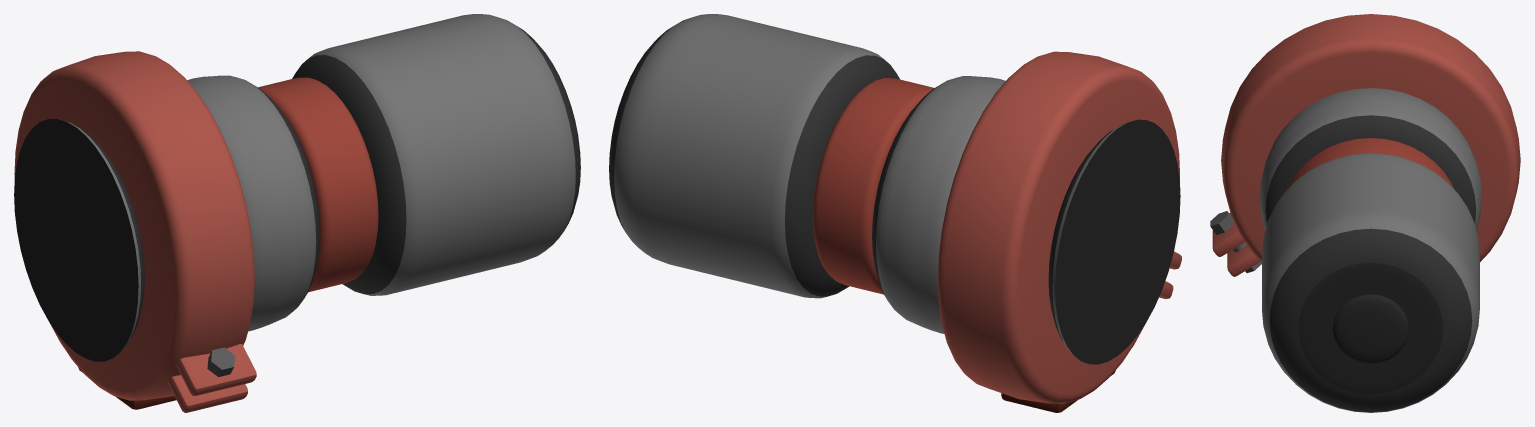
The model's file is rod_butt_r.glb.
3 renders of one model, left to right at view 1: azimuth 30°, elevation 25°; view 2: azimuth 150°, elevation 25°; view 3: azimuth 270°, elevation 25°, orthographic. The views are drawn at different scales.
Visible parts, largest first — view 1: bead0_m.001, collar0_m.001, bead2_m.001, bead1_m.001, band0_m.001, core_m.001, collar0_ear1_m.001, collar0_ear0_m.001, collar0_nut+1_m.001; view 2: bead0_m.001, collar0_m.001, bead1_m.001, bead2_m.001, band0_m.001, core_m.001, collar0_foot_m.001; view 3: bead0_m.001, collar0_m.001, bead1_m.001, end_boss_m.001, band0_m.001, collar0_ear0_m.001, collar0_ear1_m.001, collar0_nut+1_m.001.
Boxes of the visible parts, <box> form: bead0_m.001: <box>292,14,580,295</box>; collar0_m.001: <box>14,51,254,400</box>; bead2_m.001: <box>14,119,144,361</box>; bead1_m.001: <box>187,75,319,331</box>; band0_m.001: <box>258,77,378,292</box>; core_m.001: <box>37,162,116,318</box>; collar0_ear1_m.001: <box>176,344,256,395</box>; collar0_ear0_m.001: <box>167,375,247,412</box>; collar0_nut+1_m.001: <box>207,347,235,376</box>; bead0_m.001: <box>609,14,899,298</box>; collar0_m.001: <box>937,51,1179,403</box>; bead1_m.001: <box>872,76,1005,333</box>; bead2_m.001: <box>1048,119,1180,364</box>; band0_m.001: <box>813,78,933,294</box>; core_m.001: <box>1077,162,1158,321</box>; collar0_foot_m.001: <box>1001,370,1115,412</box>; bead0_m.001: <box>1262,153,1479,412</box>; collar0_m.001: <box>1221,14,1520,261</box>; bead1_m.001: <box>1259,88,1482,230</box>; end_boss_m.001: <box>1332,294,1408,363</box>; band0_m.001: <box>1288,138,1453,188</box>; collar0_ear0_m.001: <box>1227,244,1260,276</box>; collar0_ear1_m.001: <box>1212,213,1244,256</box>; collar0_nut+1_m.001: <box>1210,211,1233,234</box>.
Size of the model in its own units: 24 by 15.54 by 16.1.
